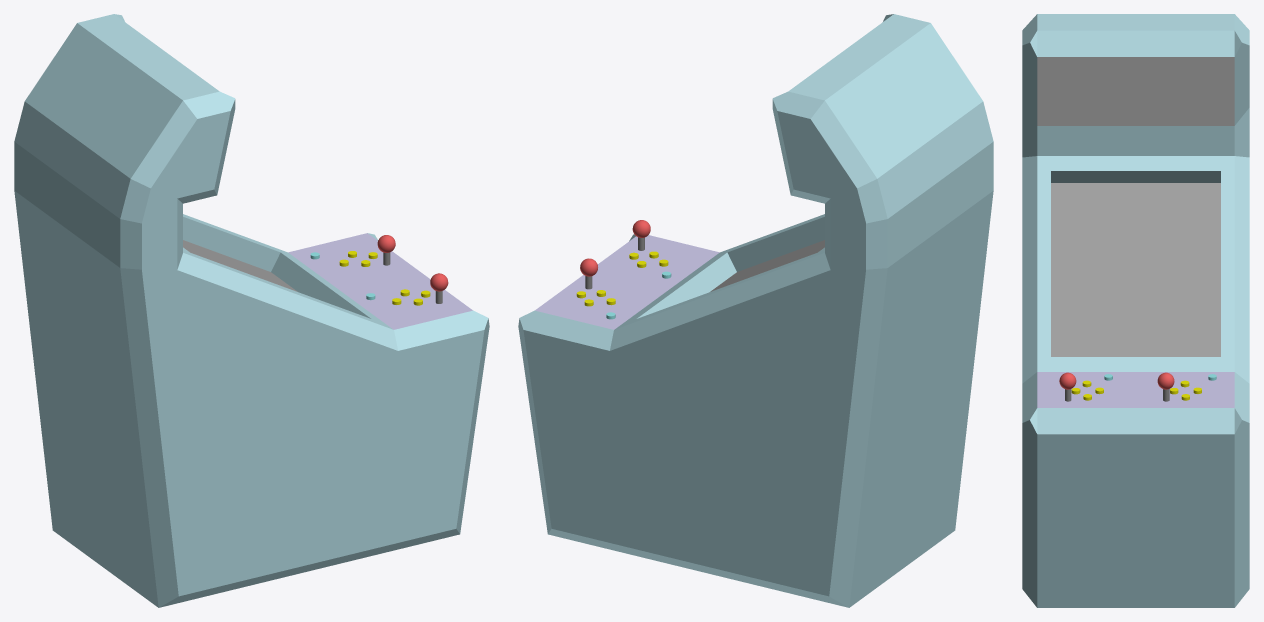
The model's file is orakgi.fbx.
3 views of the same model, side by side, from view 1: azimuth 30°, elevation 25°; view 2: azimuth 150°, elevation 25°; view 3: azimuth 270°, elevation 25° (orthographic). The views are drawn at different scales.
Visible parts, largest first — view 1: bonches, gameboard, glass; view 2: bonches, gameboard, glass; view 3: bonches, glass, ganpan, gameboard.
Part boxes in pixels (x1=…): bonches: x1=14, y1=14, x2=489, y2=607; gameboard: x1=288, y1=233, x2=472, y2=329; glass: x1=183, y1=240, x2=297, y2=291; bonches: x1=518, y1=14, x2=993, y2=607; gameboard: x1=535, y1=235, x2=719, y2=329; glass: x1=710, y1=240, x2=824, y2=291; bonches: x1=1022, y1=14, x2=1249, y2=607; glass: x1=1051, y1=183, x2=1220, y2=356; ganpan: x1=1037, y1=57, x2=1234, y2=125; gameboard: x1=1037, y1=372, x2=1234, y2=407.
Bounding box in the file's own units: 7.77 × 10.08 × 4.44.
